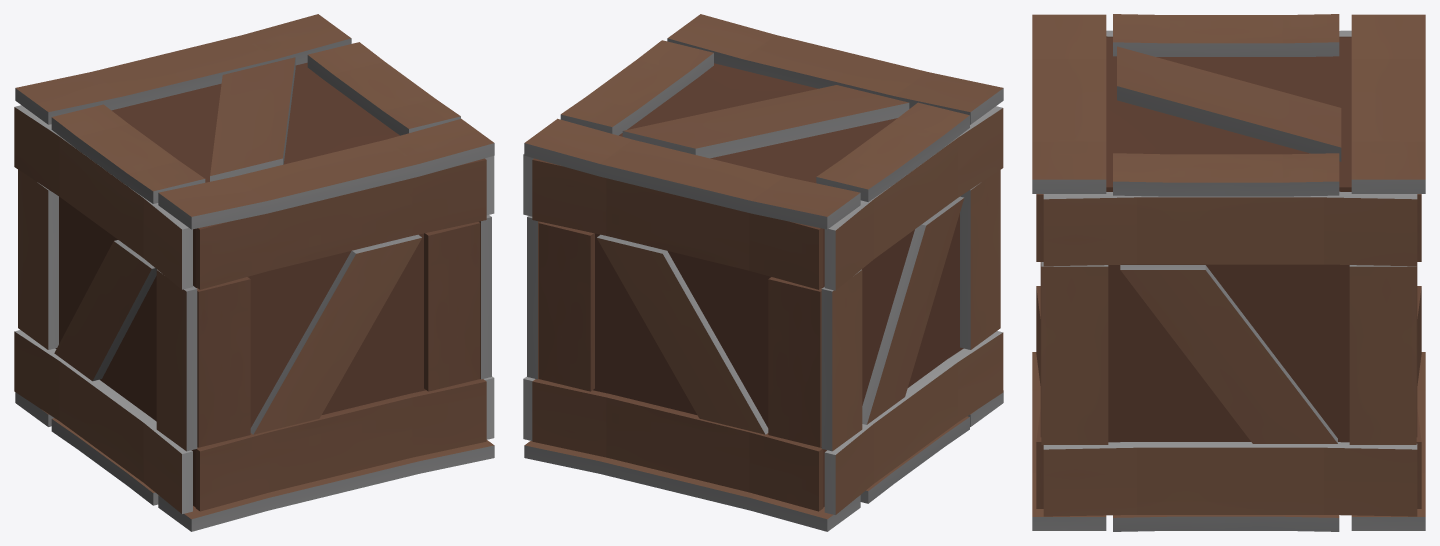
Rendered from paper box.fbx.
3 views of the same model, side by side, from view 1: azimuth 30°, elevation 25°; view 2: azimuth 150°, elevation 25°; view 3: azimuth 270°, elevation 25° (orthographic). The views are drawn at different scales.
Visible parts, largest first — view 1: Cube, Cube.003, Cube.002, Cube.008, Cube.001, Cube.007, Cube.004, Cube.005, Cube.006, Cube.009; view 2: Cube.003, Cube.002, Cube, Cube.008, Cube.001, Cube.004, Cube.007, Cube.005, Cube.006, Cube.009; view 3: Cube.008, Cube, Cube.002, Cube.007, Cube.004, Cube.009, Cube.006, Cube.003, Cube.001.
Part boxes in pixels (left/top/right/bottom): Cube: left=55, top=62, right=425, bottom=507; Cube.003: left=195, top=158, right=486, bottom=511; Cube.002: left=15, top=14, right=494, bottom=531; Cube.008: left=14, top=105, right=494, bottom=513; Cube.001: left=196, top=222, right=480, bottom=447; Cube.007: left=18, top=169, right=491, bottom=451; Cube.004: left=51, top=42, right=460, bottom=505; Cube.005: left=250, top=234, right=421, bottom=434; Cube.006: left=210, top=57, right=295, bottom=181; Cube.009: left=54, top=240, right=156, bottom=381; Cube.003: left=532, top=158, right=823, bottom=511; Cube.002: left=524, top=14, right=1003, bottom=531; Cube: left=593, top=63, right=963, bottom=507; Cube.008: left=523, top=106, right=1003, bottom=514; Cube.001: left=538, top=222, right=822, bottom=447; Cube.004: left=560, top=40, right=969, bottom=503; Cube.007: left=527, top=170, right=1000, bottom=451; Cube.005: left=597, top=234, right=768, bottom=434; Cube.006: left=622, top=85, right=909, bottom=158; Cube.009: left=862, top=196, right=964, bottom=424; Cube.008: left=1043, top=30, right=1417, bottom=516; Cube: left=1106, top=37, right=1351, bottom=442; Cube.002: left=1032, top=14, right=1425, bottom=530; Cube.007: left=1041, top=262, right=1416, bottom=444; Cube.004: left=1113, top=14, right=1339, bottom=531; Cube.009: left=1120, top=265, right=1337, bottom=443; Cube.006: left=1117, top=46, right=1341, bottom=161; Cube.003: left=1036, top=194, right=1421, bottom=508; Cube.001: left=1040, top=262, right=1417, bottom=436.
Size of the model in its own units: 96.07 by 92.59 by 93.91.
